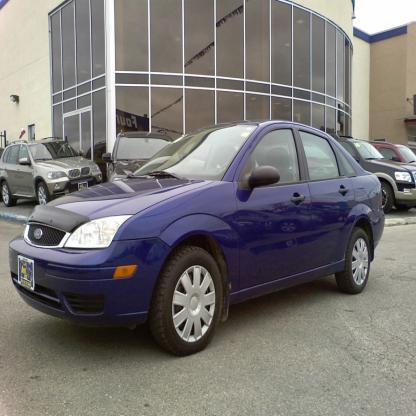Vehicle: (8, 120, 385, 354)
